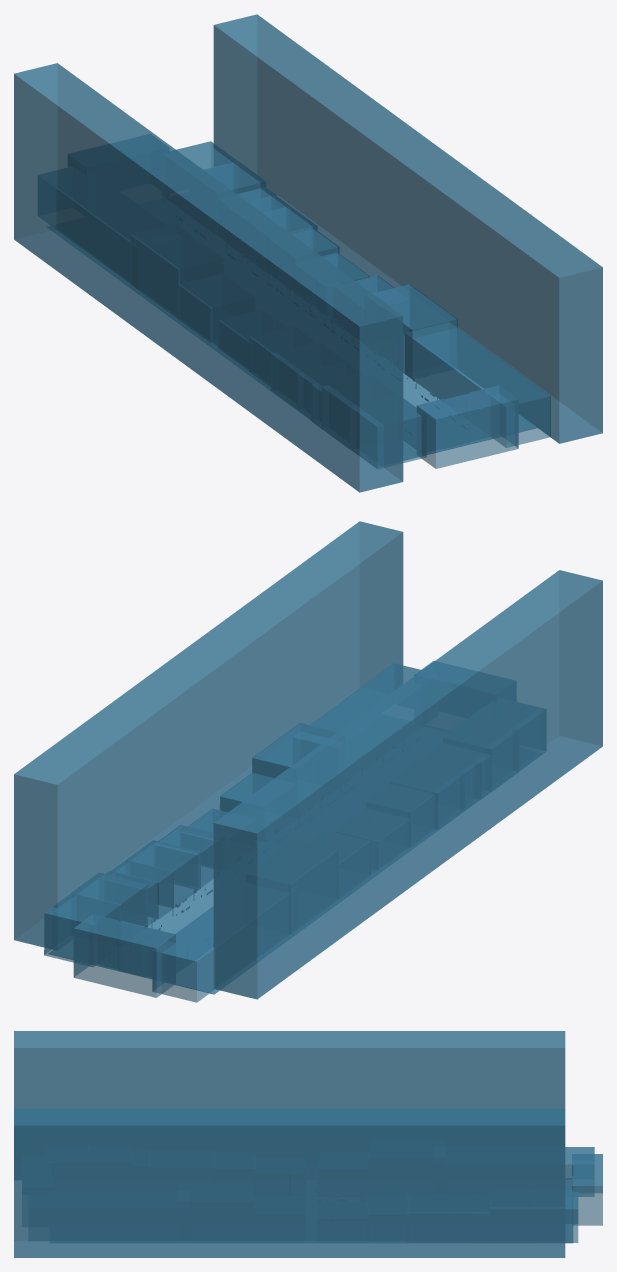
The model's file is penzhuan.fbx.
3 renders of one model, top to bottom at view 1: azimuth 30°, elevation 25°; view 2: azimuth 150°, elevation 25°; view 3: azimuth 270°, elevation 25°, orthographic. The views are drawn at different scales.
Parts seen in each view (by area): view 1: pz1; view 2: pz1; view 3: pz1.
Part boxes in pixels (bbox=[...]): pz1: bbox=[14, 14, 602, 492]; pz1: bbox=[14, 521, 602, 1002]; pz1: bbox=[14, 1031, 602, 1257].
Size of the model in its own units: 13632 by 8921 by 35844.
